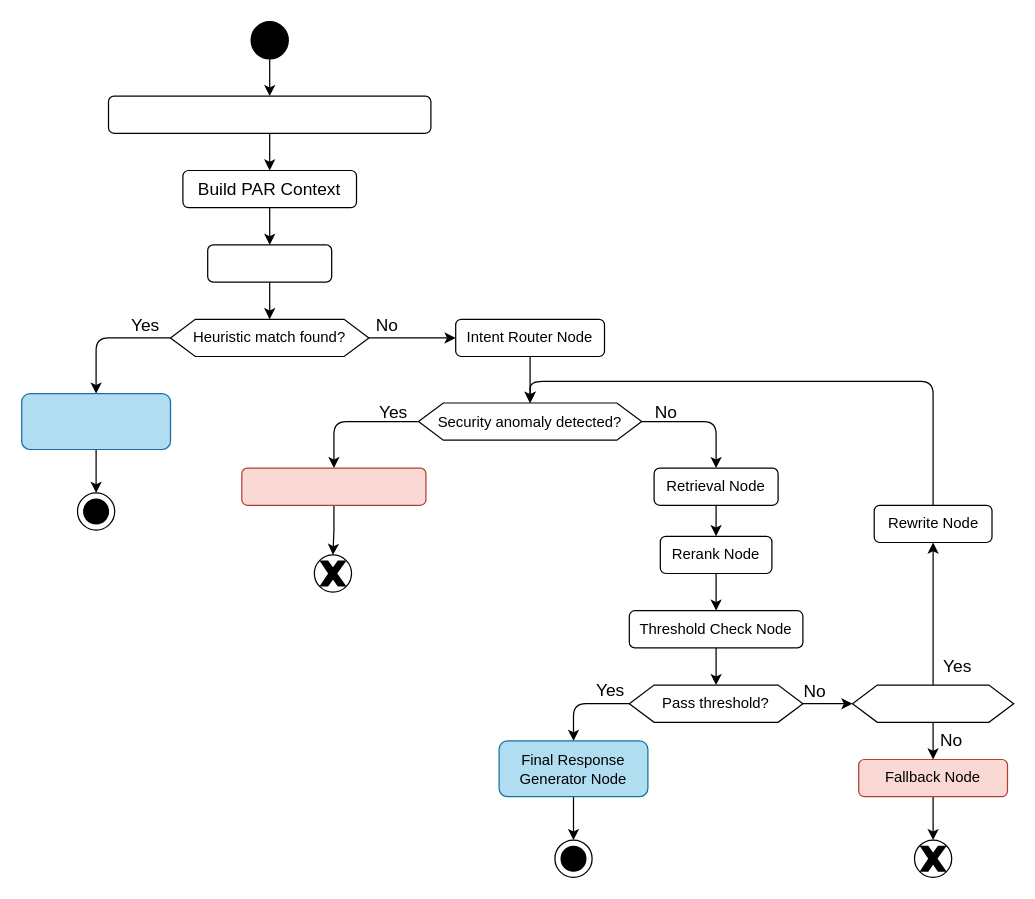
This 1035x899 diagram has some shape labels left out. The shapes that lost their labels are listed below. From the top down, each one's centre as x and y in pixels, then its label:
At pixel 269 114: "Receive user message and chat history".
At pixel 269 263: "Heuristic Filter".
At pixel 95 421: "Direct Response Generator Node".
At pixel 333 486: "Security Kill Switch Node".
At pixel 932 703: "Retry < limit".
